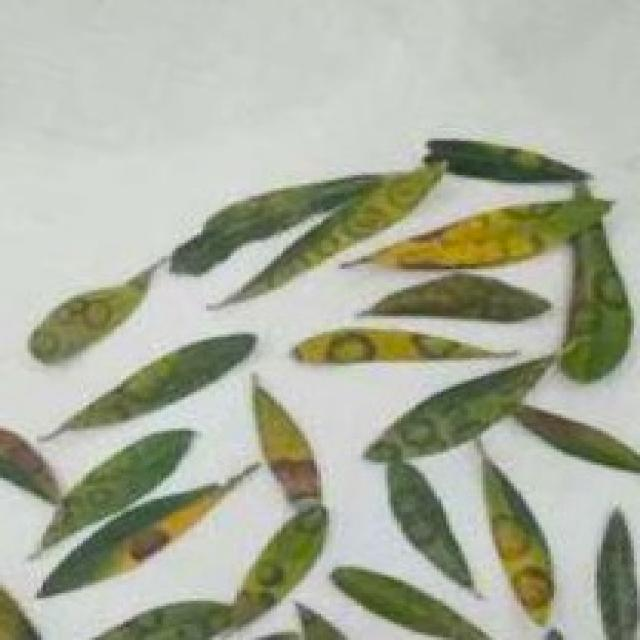OlivePeacockSpot: (231, 164, 443, 300), (40, 474, 246, 596), (59, 334, 252, 431), (351, 201, 606, 264), (228, 510, 326, 624), (560, 225, 631, 382), (486, 459, 554, 622), (366, 392, 514, 460), (28, 284, 130, 361), (302, 326, 489, 364), (388, 460, 440, 568)
